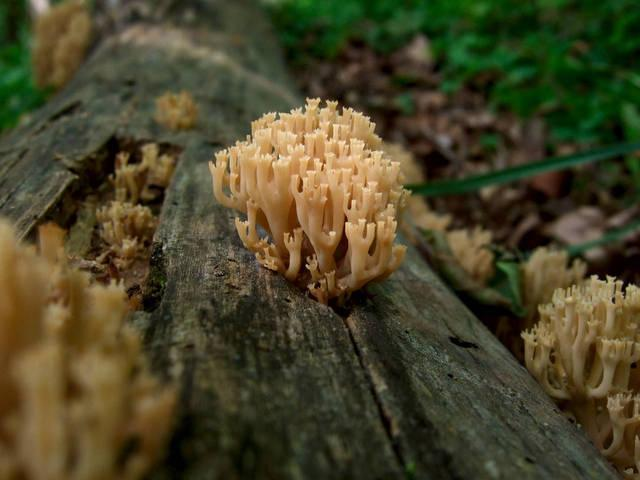edible_mushroom: (0, 215, 168, 480), (207, 95, 411, 307), (519, 273, 638, 477)
